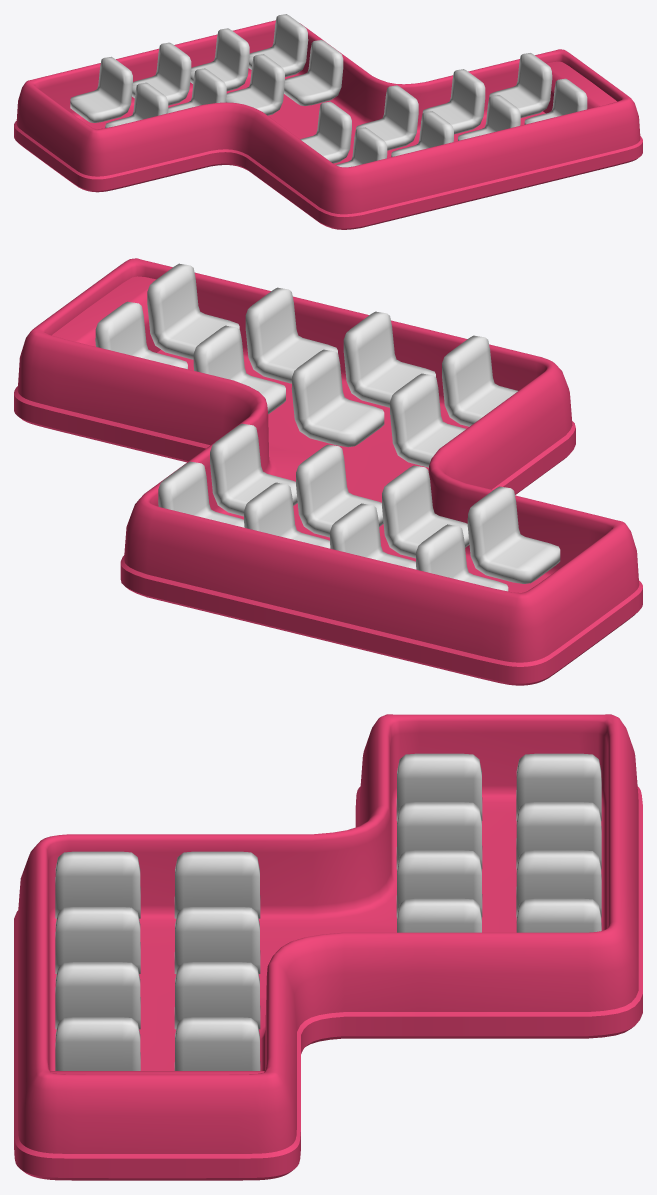
Rendered from car_L_S_T2.fbx.
The picture shows the model from 3 angles, top to bottom: view 1: azimuth 30°, elevation 25°; view 2: azimuth 150°, elevation 25°; view 3: azimuth 270°, elevation 25°; orthographic projection. The views are drawn at different scales.
Visible parts, largest first — view 1: Cube.074, Cube.073, Cube.075; view 2: Cube.074, Cube.075, Cube.073; view 3: Cube.074, Cube.075, Cube.073.
Part boxes in pixels (<box>): Cube.074: <box>14,20,642,229</box>; Cube.073: <box>70,14,343,127</box>; Cube.075: <box>300,53,587,167</box>; Cube.074: <box>14,258,642,685</box>; Cube.075: <box>95,263,517,467</box>; Cube.073: <box>158,423,560,591</box>; Cube.074: <box>14,714,642,1180</box>; Cube.075: <box>55,851,260,1070</box>; Cube.073: <box>396,753,601,932</box>.
Size of the model in its own units: 584 by 83.38 by 405.
